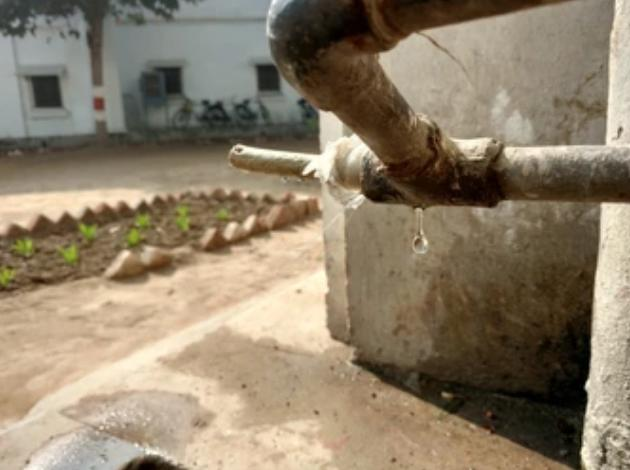pipe burst: (315, 187, 368, 241)
water accumulation: (21, 323, 612, 470)
water drop: (410, 205, 428, 253)
